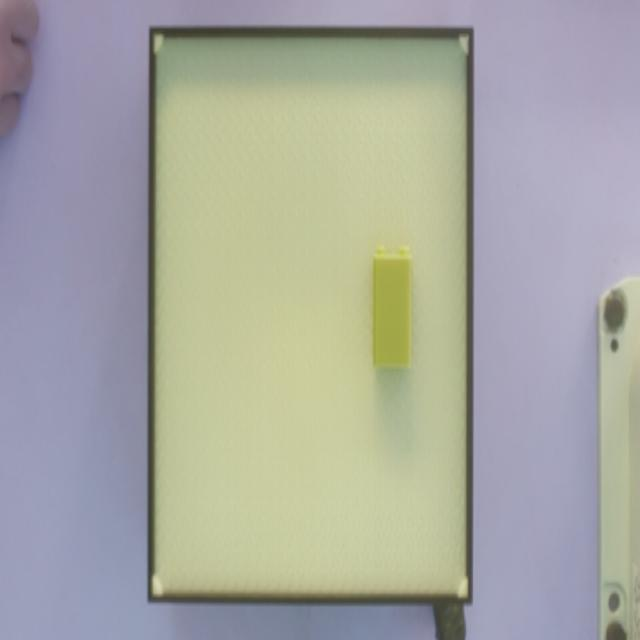Bateria: (373, 256, 412, 367)
Mesa: (148, 26, 474, 605)
Pestana: (400, 247, 409, 255), (377, 247, 385, 255)
